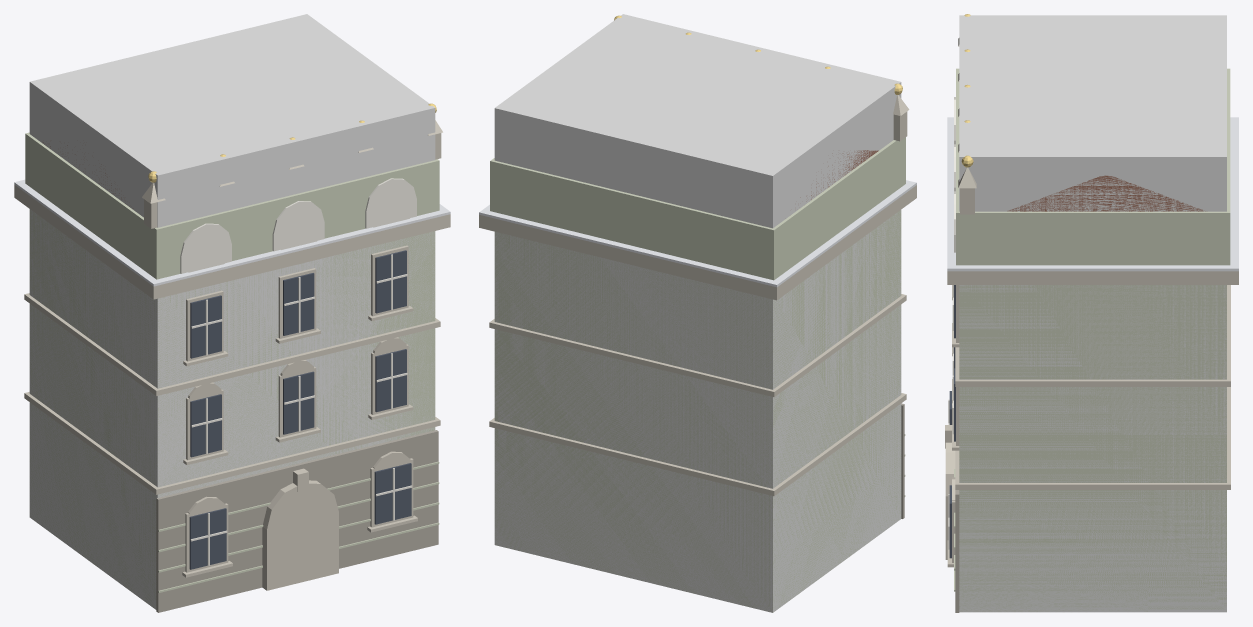
The model's file is tenement_d.glb.
The picture shows the model from 3 angles, left to right: view 1: azimuth 30°, elevation 25°; view 2: azimuth 150°, elevation 25°; view 3: azimuth 270°, elevation 25°; orthographic projection. The views are drawn at different scales.
Visible parts, largest first — view 1: tenement_d, tenement_d-col; view 2: tenement_d-col, tenement_d; view 3: tenement_d, tenement_d-col.
Boxes of the visible parts, x1=… form: tenement_d: x1=14, y1=103, x2=450, y2=612; tenement_d-col: x1=29, y1=14, x2=435, y2=609; tenement_d-col: x1=494, y1=14, x2=901, y2=612; tenement_d: x1=479, y1=15, x2=916, y2=612; tenement_d: x1=945, y1=14, x2=1238, y2=612; tenement_d-col: x1=959, y1=15, x2=1226, y2=612.
Size of the model in its own units: 10.7 by 15.03 by 8.77.
